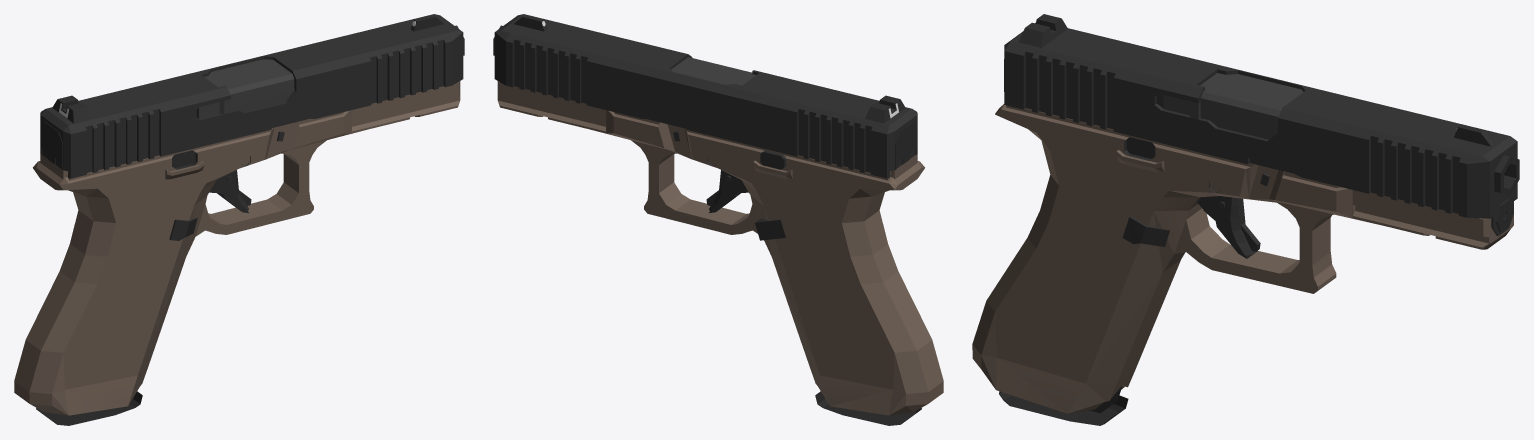
3 views of the same model, side by side, from view 1: azimuth 30°, elevation 25°; view 2: azimuth 150°, elevation 25°; view 3: azimuth 330°, elevation 25° (orthographic). The views are drawn at different scales.
Parts seen in each view (by area): view 1: G17; view 2: G17; view 3: G17.
Part boxes in pixels (<box>): G17: <box>14,14,464,425</box>; G17: <box>493,14,943,425</box>; G17: <box>972,14,1519,425</box>.
Size of the model in its own units: 20.52 by 14.08 by 2.89.
